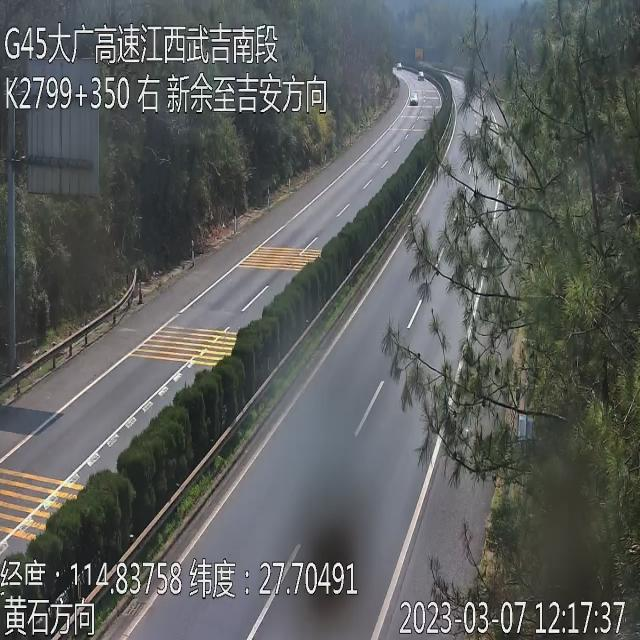cover: (406, 208, 432, 268), (418, 396, 444, 454), (422, 544, 447, 589), (464, 180, 486, 226), (382, 317, 404, 362), (458, 327, 482, 366), (458, 510, 479, 553), (460, 72, 479, 119), (454, 262, 476, 301), (428, 302, 450, 341), (438, 217, 456, 255), (442, 156, 456, 184)
point: (389, 41, 429, 93)
